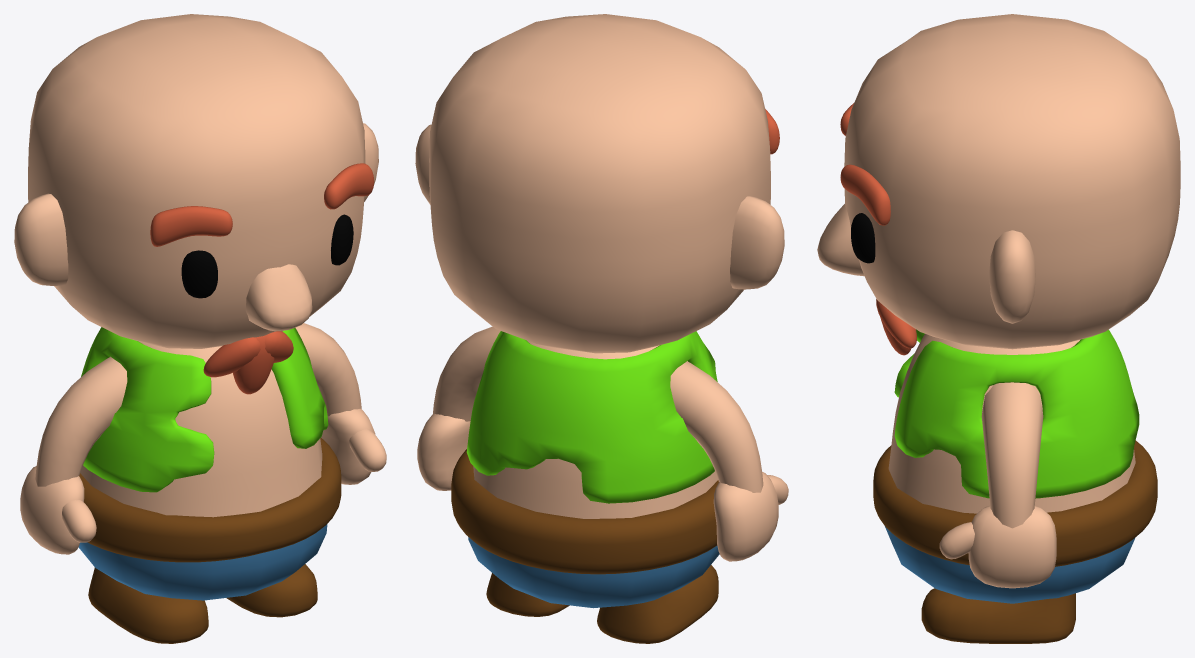
The model's file is Pirate3final.glb.
The picture shows the model from 3 angles, left to right: view 1: azimuth 30°, elevation 25°; view 2: azimuth 150°, elevation 25°; view 3: azimuth 270°, elevation 25°; orthographic projection.
Visible parts, largest first — view 1: Pirate3_Head, Pirate3_Body, Pirate3_Right_Arm, Pirate3_Left_Arm, Pirate3_Right_Foot, Pirate3_Left_Foot; view 2: Pirate3_Head, Pirate3_Body, Pirate3_Right_Arm, Pirate3_Left_Arm, Pirate3_Right_Foot, Pirate3_Left_Foot; view 3: Pirate3_Head, Pirate3_Body, Pirate3_Left_Arm, Pirate3_Left_Foot.
Boxes of the visible parts, left/top/right/bottom form: Pirate3_Head: left=14, top=14, right=378, bottom=394; Pirate3_Body: left=78, top=327, right=341, bottom=600; Pirate3_Right_Arm: left=20, top=357, right=127, bottom=554; Pirate3_Left_Arm: left=295, top=323, right=386, bottom=484; Pirate3_Right_Foot: left=88, top=567, right=208, bottom=643; Pirate3_Left_Foot: left=226, top=564, right=317, bottom=617; Pirate3_Head: left=415, top=14, right=784, bottom=353; Pirate3_Body: left=451, top=331, right=719, bottom=608; Pirate3_Right_Arm: left=670, top=361, right=788, bottom=561; Pirate3_Left_Arm: left=417, top=326, right=500, bottom=490; Pirate3_Right_Foot: left=597, top=565, right=718, bottom=643; Pirate3_Left_Foot: left=486, top=573, right=569, bottom=616; Pirate3_Head: left=817, top=14, right=1180, bottom=355; Pirate3_Body: left=873, top=329, right=1157, bottom=603; Pirate3_Left_Arm: left=939, top=382, right=1056, bottom=588; Pirate3_Left_Foot: left=921, top=588, right=1075, bottom=643.
Bounding box in the file's own units: 1.79 × 2.66 × 1.56.
